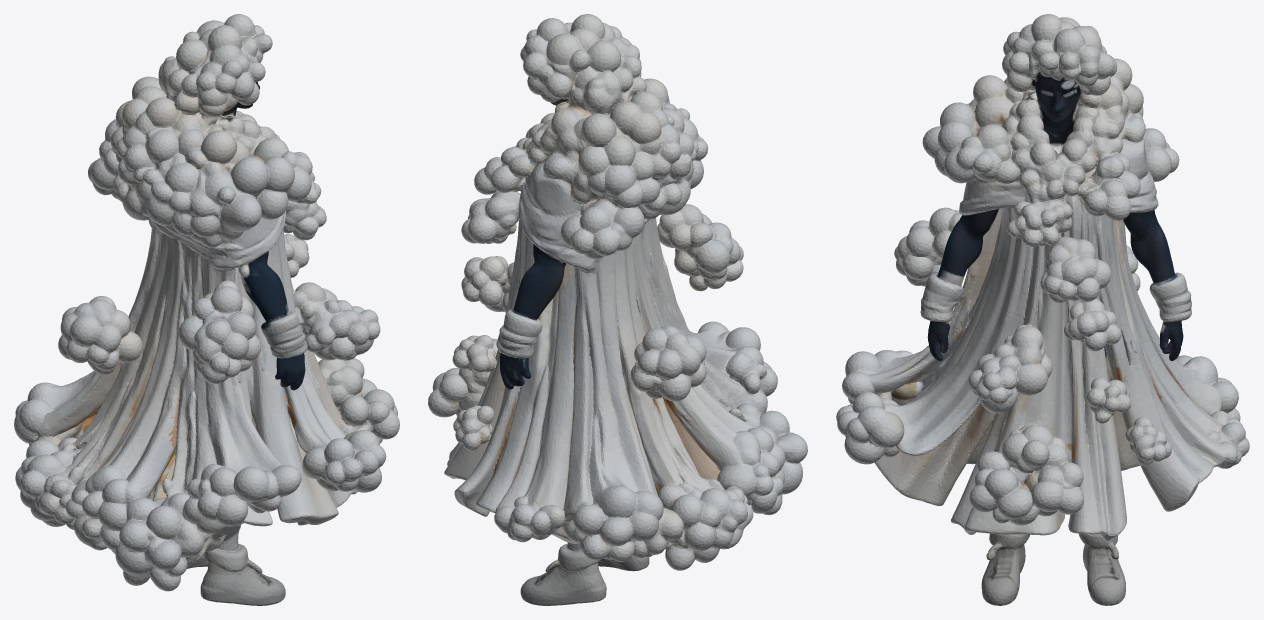
The model's file is modelo4.glb.
3 renders of one model, left to right at view 1: azimuth 30°, elevation 25°; view 2: azimuth 150°, elevation 25°; view 3: azimuth 270°, elevation 25°, orthographic. The views are drawn at different scales.
Visible parts, largest first — view 1: tripo_node_f7462784-94f9-40cc-bba1-a52d0a41788e; view 2: tripo_node_f7462784-94f9-40cc-bba1-a52d0a41788e; view 3: tripo_node_f7462784-94f9-40cc-bba1-a52d0a41788e.
Part boxes in pixels (bbox=[...]): tripo_node_f7462784-94f9-40cc-bba1-a52d0a41788e: bbox=[14, 14, 399, 605]; tripo_node_f7462784-94f9-40cc-bba1-a52d0a41788e: bbox=[428, 14, 807, 605]; tripo_node_f7462784-94f9-40cc-bba1-a52d0a41788e: bbox=[836, 14, 1249, 605].
Bounding box in the file's own units: 0.6238 × 1 × 0.653.
1 material, 1 textured.
